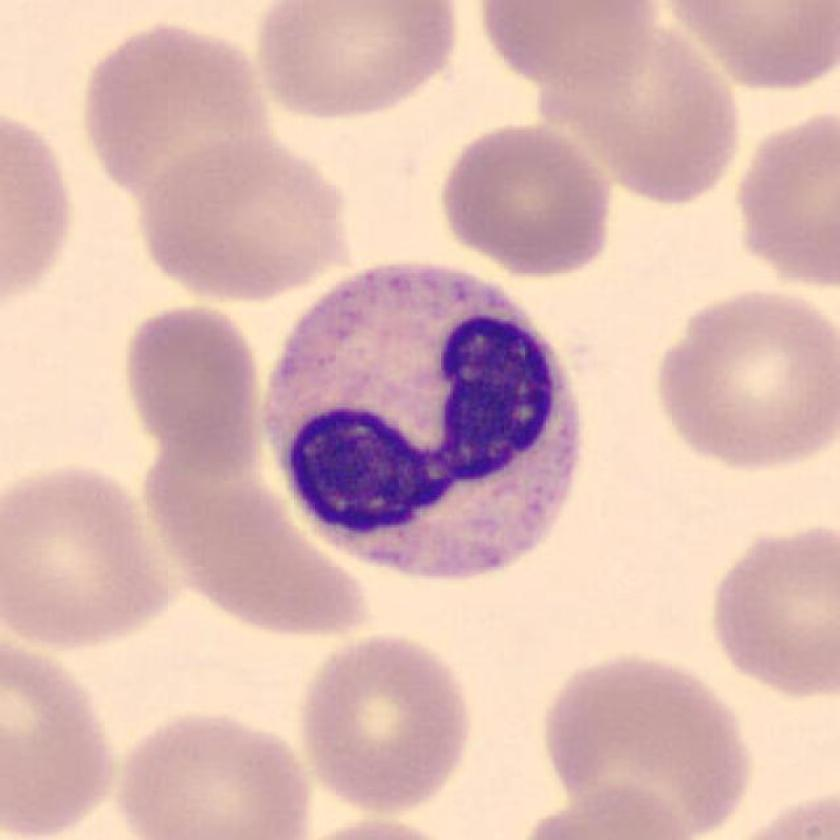neutrophil: (266, 262, 579, 579)
